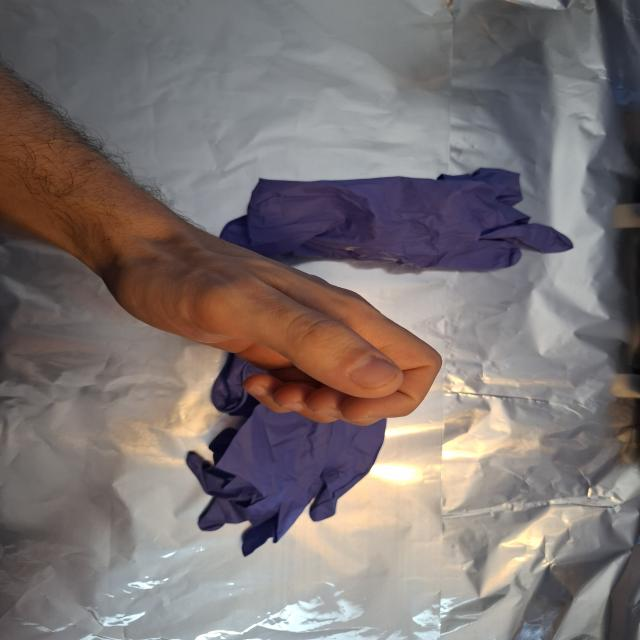glove_off: (102, 222, 446, 429)
